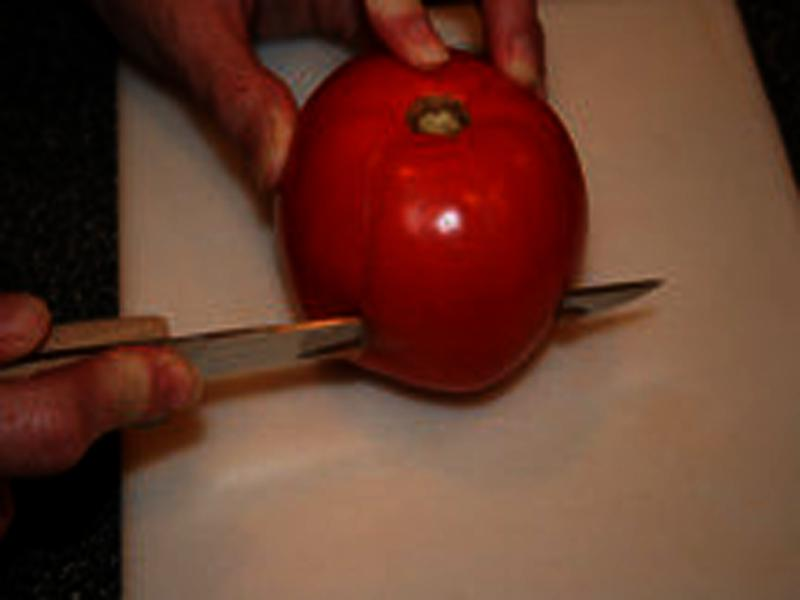Tomato: (281, 46, 589, 392)
